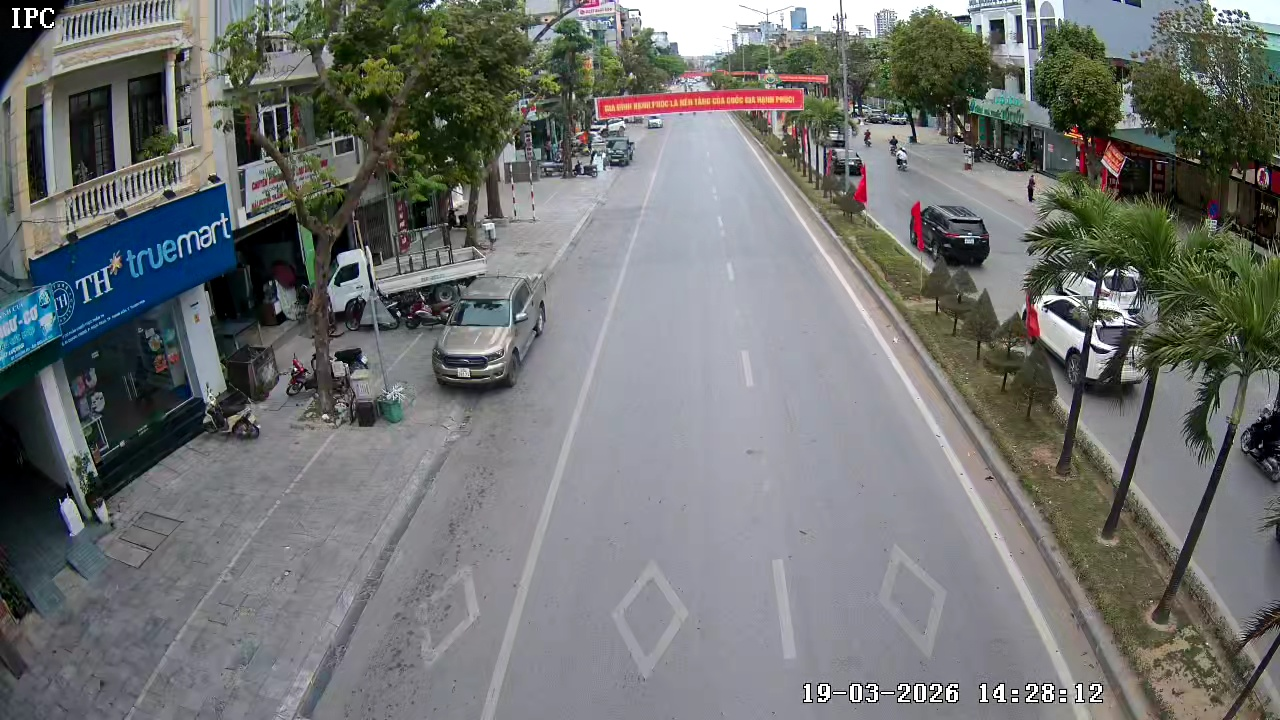car: (430, 273, 545, 388), (906, 201, 991, 266)
truck: (604, 136, 642, 170)
